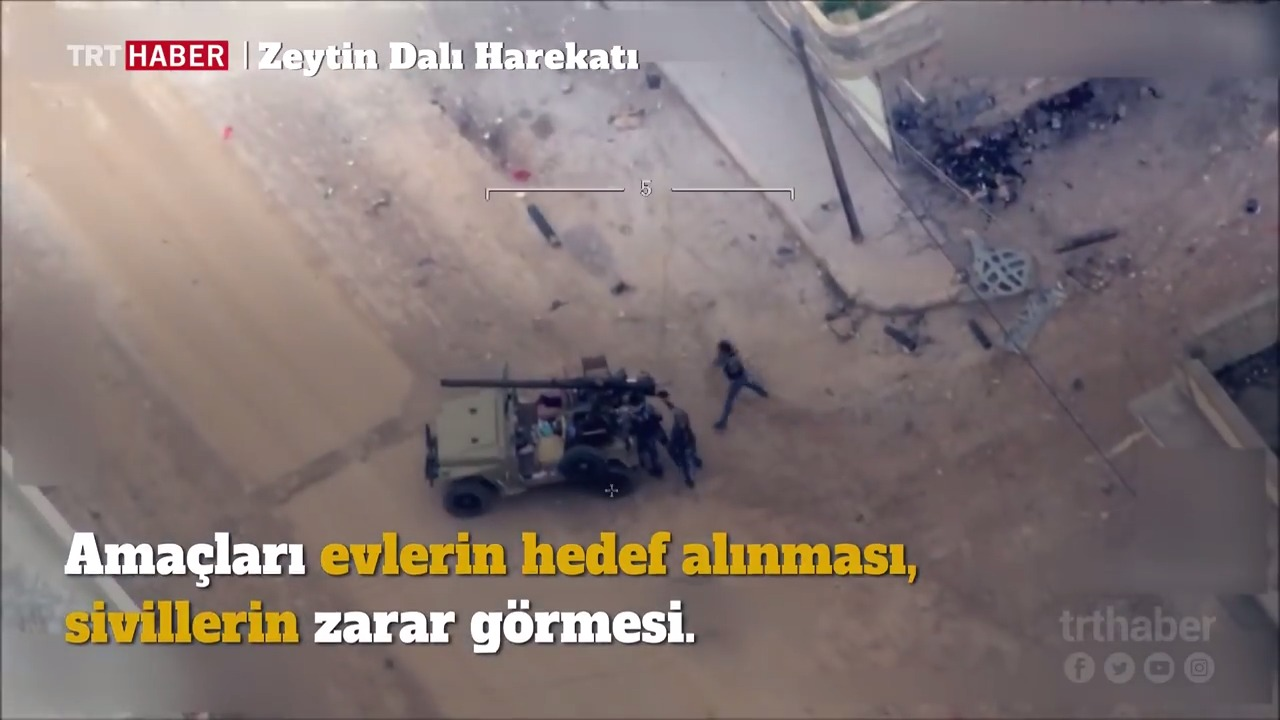arac: (405, 355, 654, 520)
insan: (709, 324, 772, 436), (664, 366, 715, 488), (622, 387, 662, 486)
